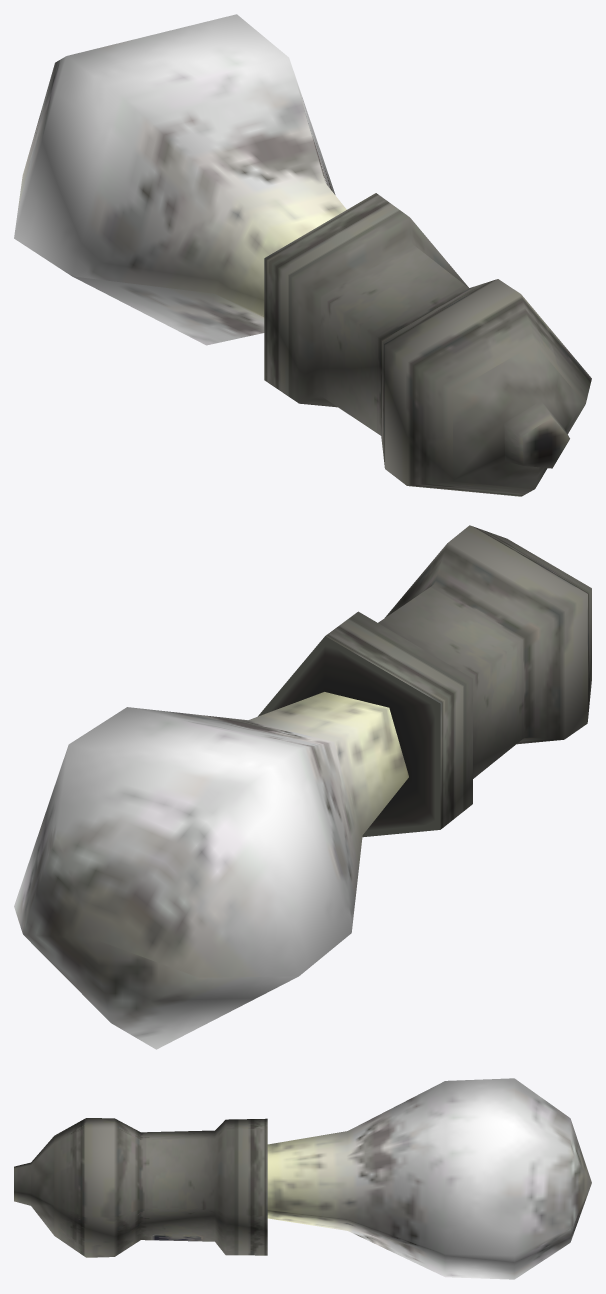
File: utility_lightbulb_bare_on_LOD1.obj
3 renders of one model, top to bottom at view 1: azimuth 30°, elevation 25°; view 2: azimuth 150°, elevation 25°; view 3: azimuth 270°, elevation 25°, orthographic. The views are drawn at different scales.
Parts seen in each view (by area): view 1: mtl_utility_lightbulb_bare_on, mtl_utility_lightbulb_bare_off; view 2: mtl_utility_lightbulb_bare_on, mtl_utility_lightbulb_bare_off; view 3: mtl_utility_lightbulb_bare_on, mtl_utility_lightbulb_bare_off.
Part boxes in pixels (box(x1,y1,x2,y2)): mtl_utility_lightbulb_bare_on: box(14, 14, 346, 345); mtl_utility_lightbulb_bare_off: box(264, 193, 591, 496); mtl_utility_lightbulb_bare_on: box(14, 692, 408, 1049); mtl_utility_lightbulb_bare_off: box(258, 525, 591, 837); mtl_utility_lightbulb_bare_on: box(267, 1078, 591, 1279); mtl_utility_lightbulb_bare_off: box(14, 1118, 267, 1257).
Bounding box in the file's own units: 7.8 × 7.43 × 22.23.
